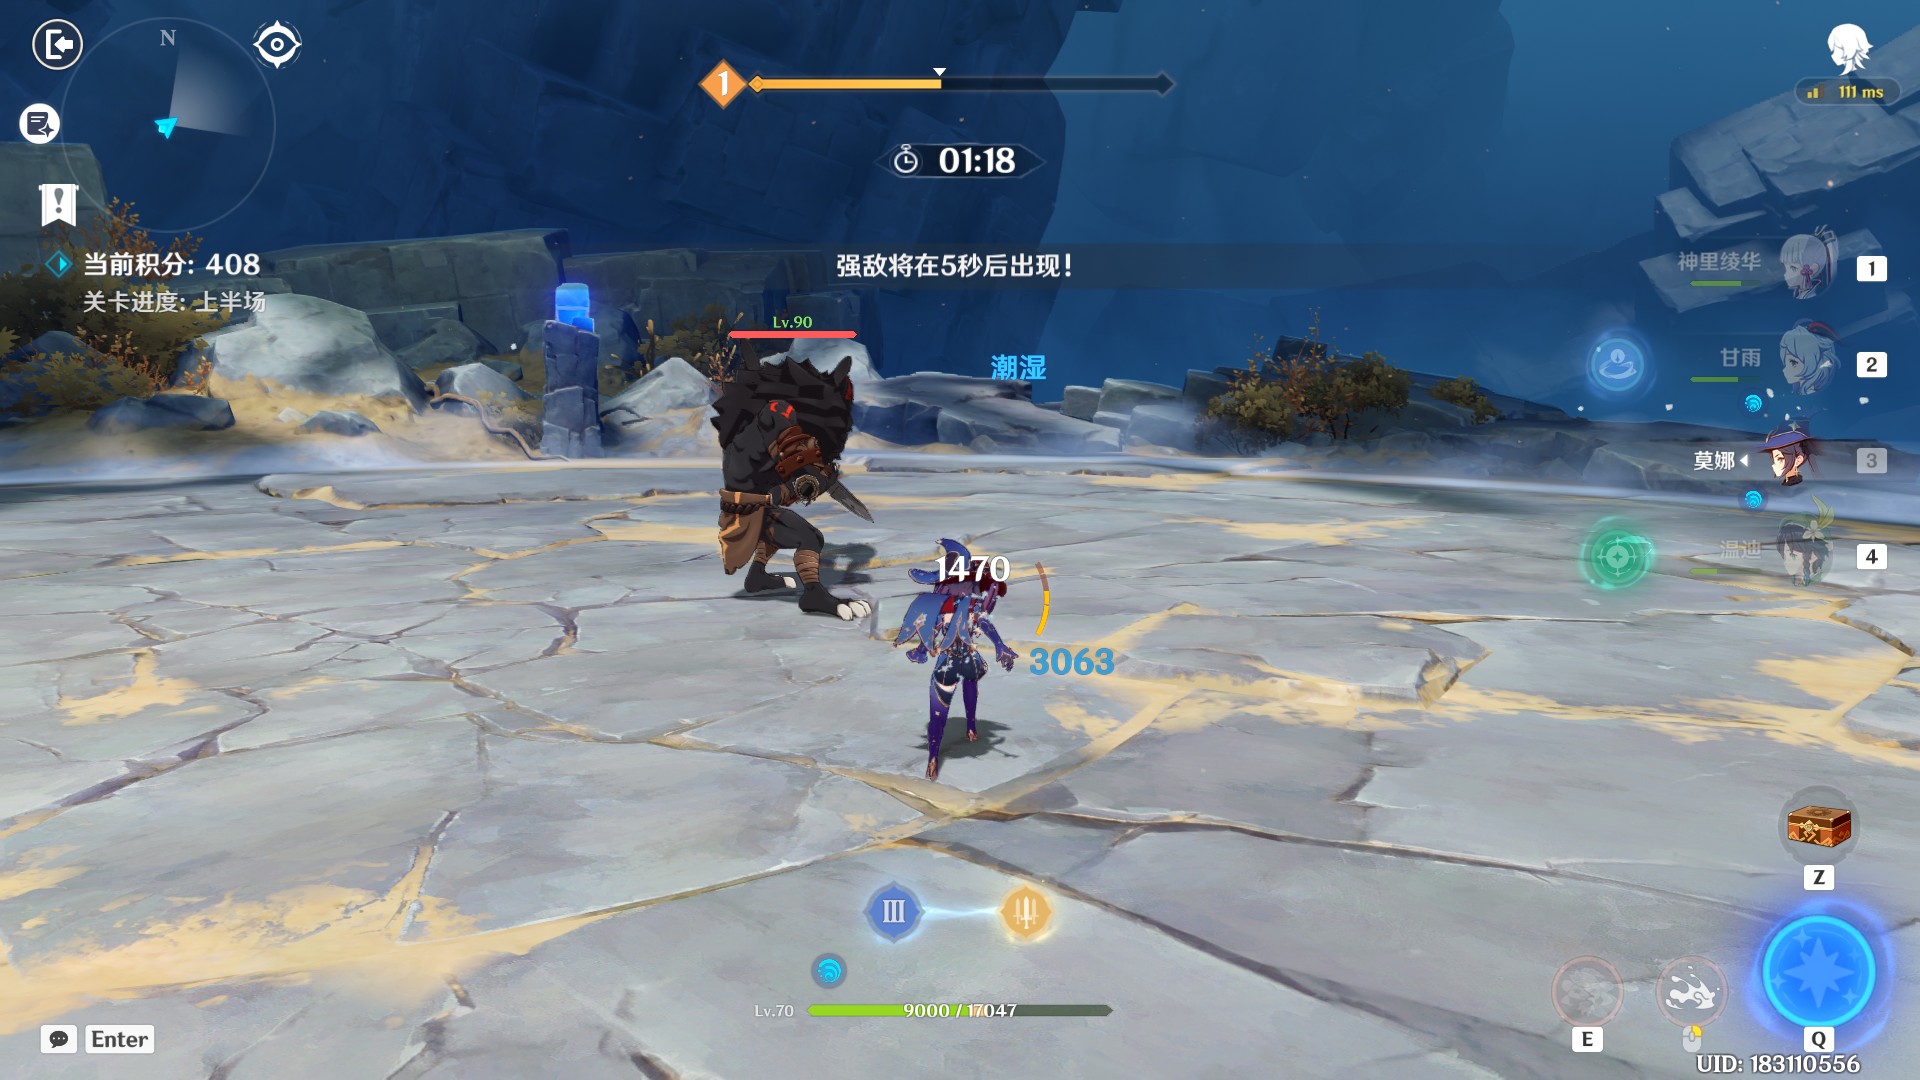bighili: (669, 313, 897, 674)
character: (869, 491, 1044, 799)
